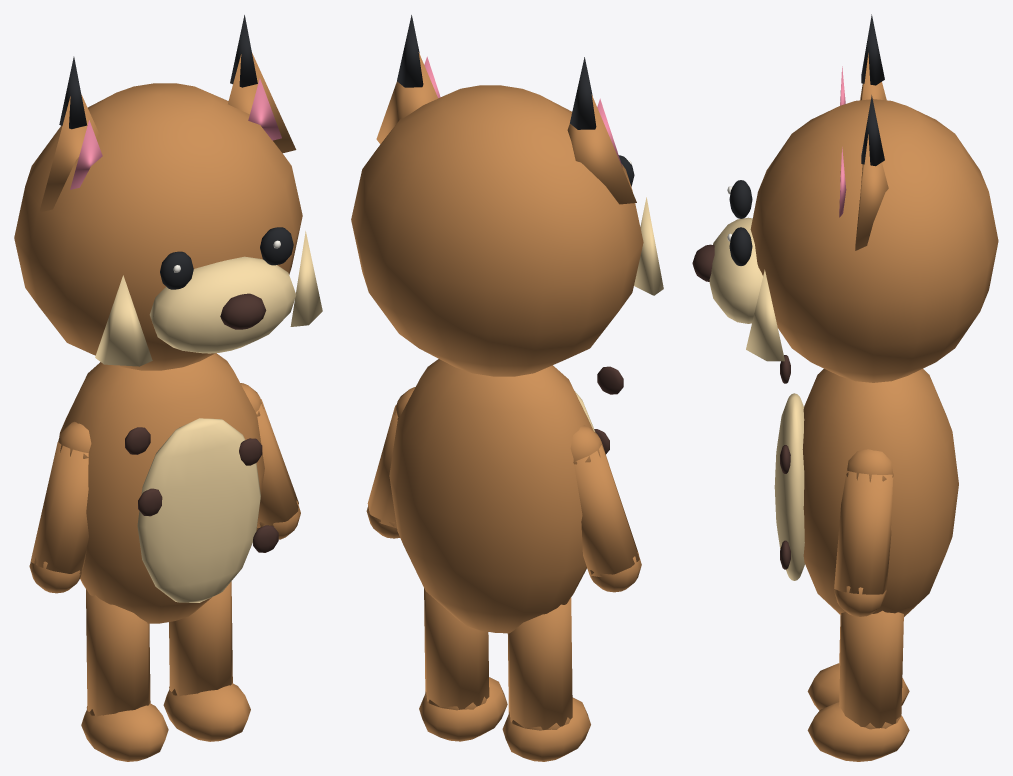
Rendered from eurasian-lynx.glb.
3 renders of one model, left to right at view 1: azimuth 30°, elevation 25°; view 2: azimuth 150°, elevation 25°; view 3: azimuth 270°, elevation 25°, orthographic. The views are drawn at different scales.
Parts seen in each view (by area): view 1: Asset.eurasian-lynx; view 2: Asset.eurasian-lynx; view 3: Asset.eurasian-lynx.
Boxes of the visible parts, x1,y1,x2,y2 form: Asset.eurasian-lynx: (14, 15, 322, 761); Asset.eurasian-lynx: (351, 15, 663, 761); Asset.eurasian-lynx: (692, 14, 998, 761).
Bounding box in the file's own units: 1.8 × 4.58 × 1.86.
